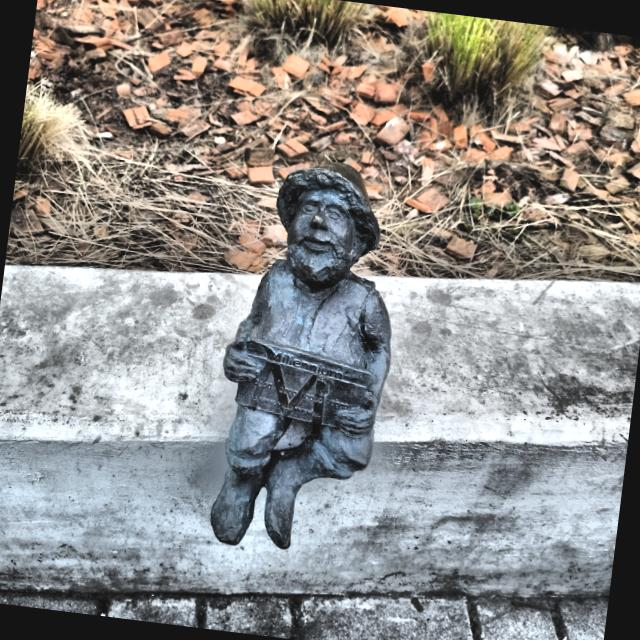Krasnal_Millenniowski: (209, 161, 390, 551)
